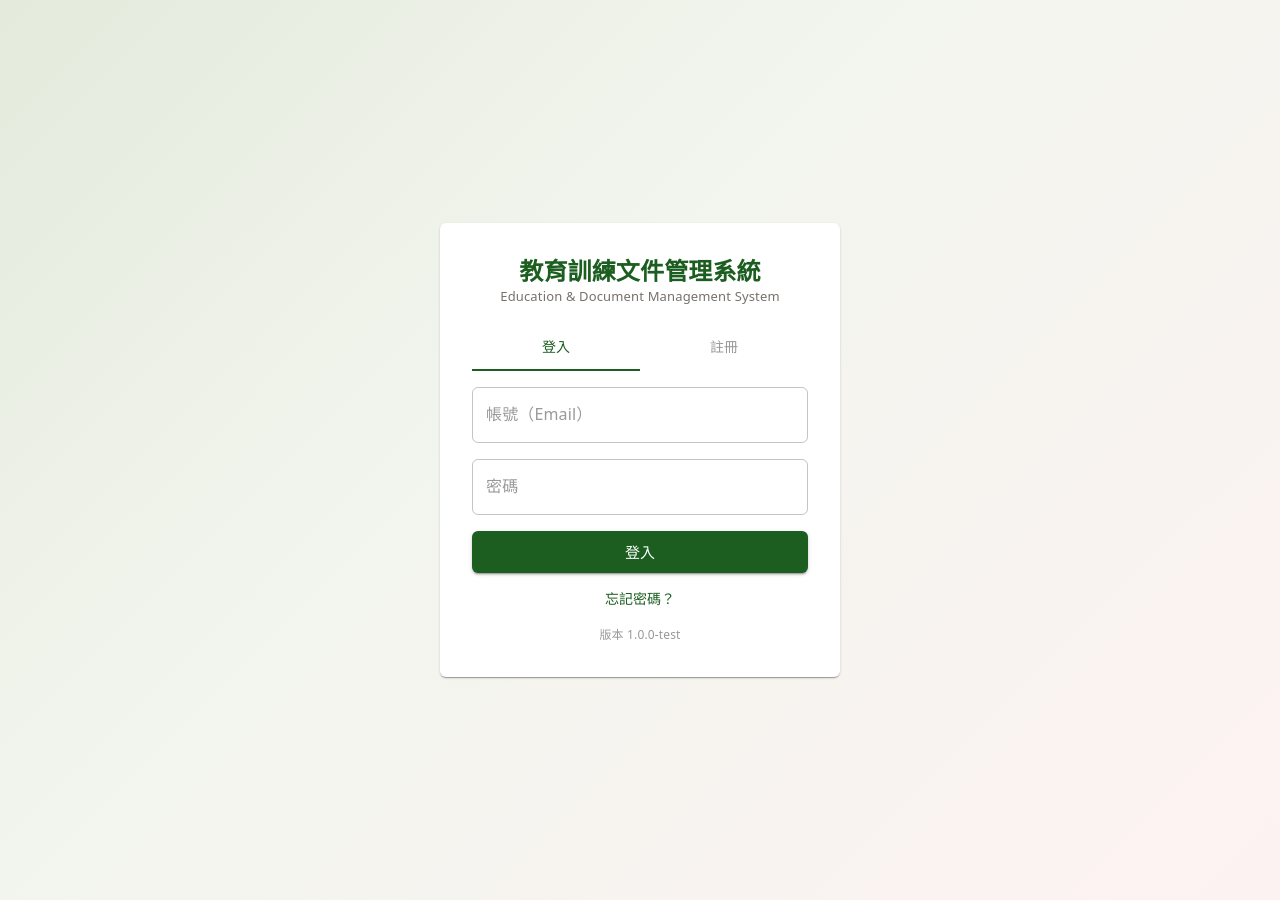
AppShell 統一導覽殼 › 登入後：全域頂列 + 常駐側欄（後台群組）+ 中性歡迎頁
In the field labelled "帳號（Email）": (640, 415) [472,387,808,443], type "u@edms.local"
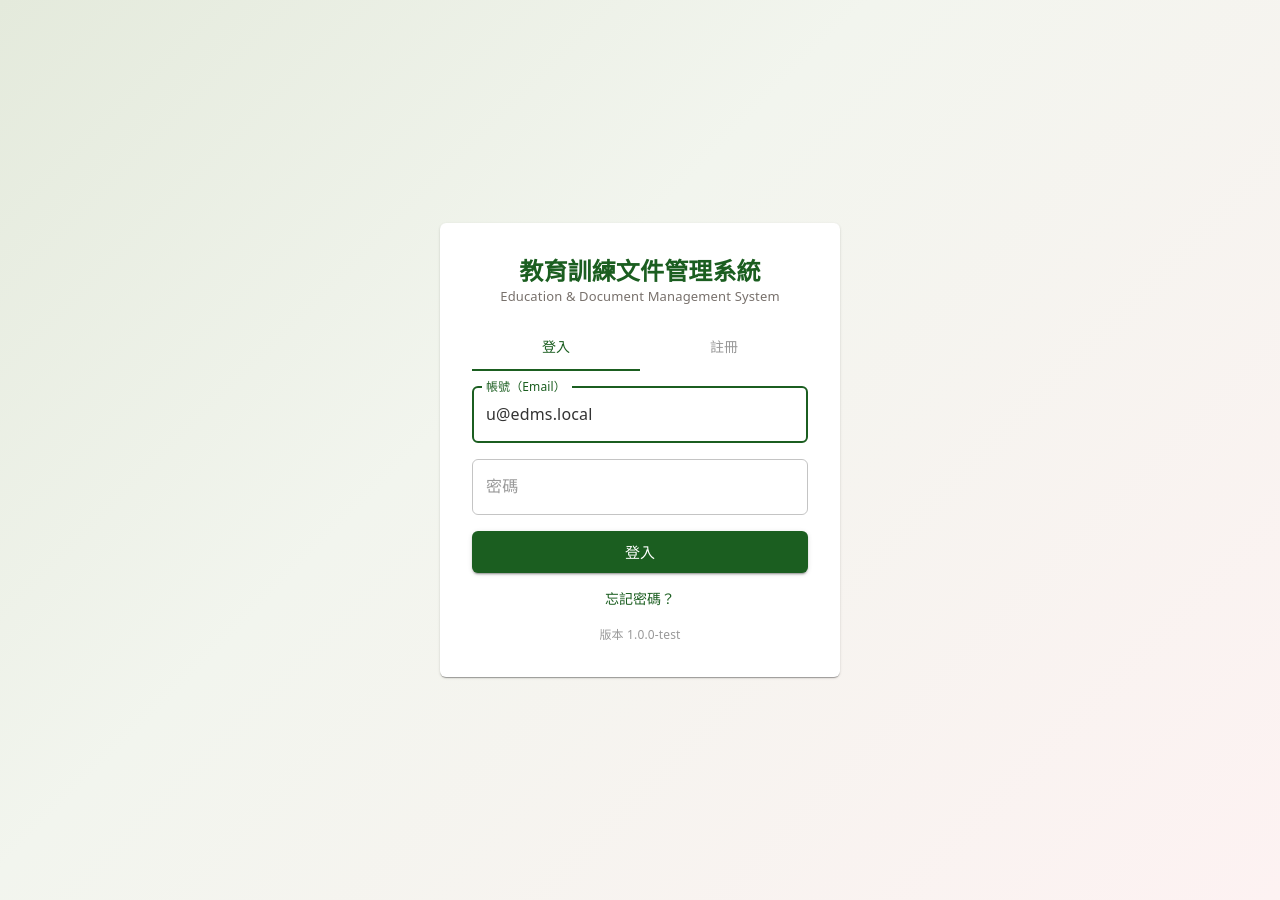
In the password field labelled "密碼": (640, 487) [472,459,808,515], type "Abcd1234"
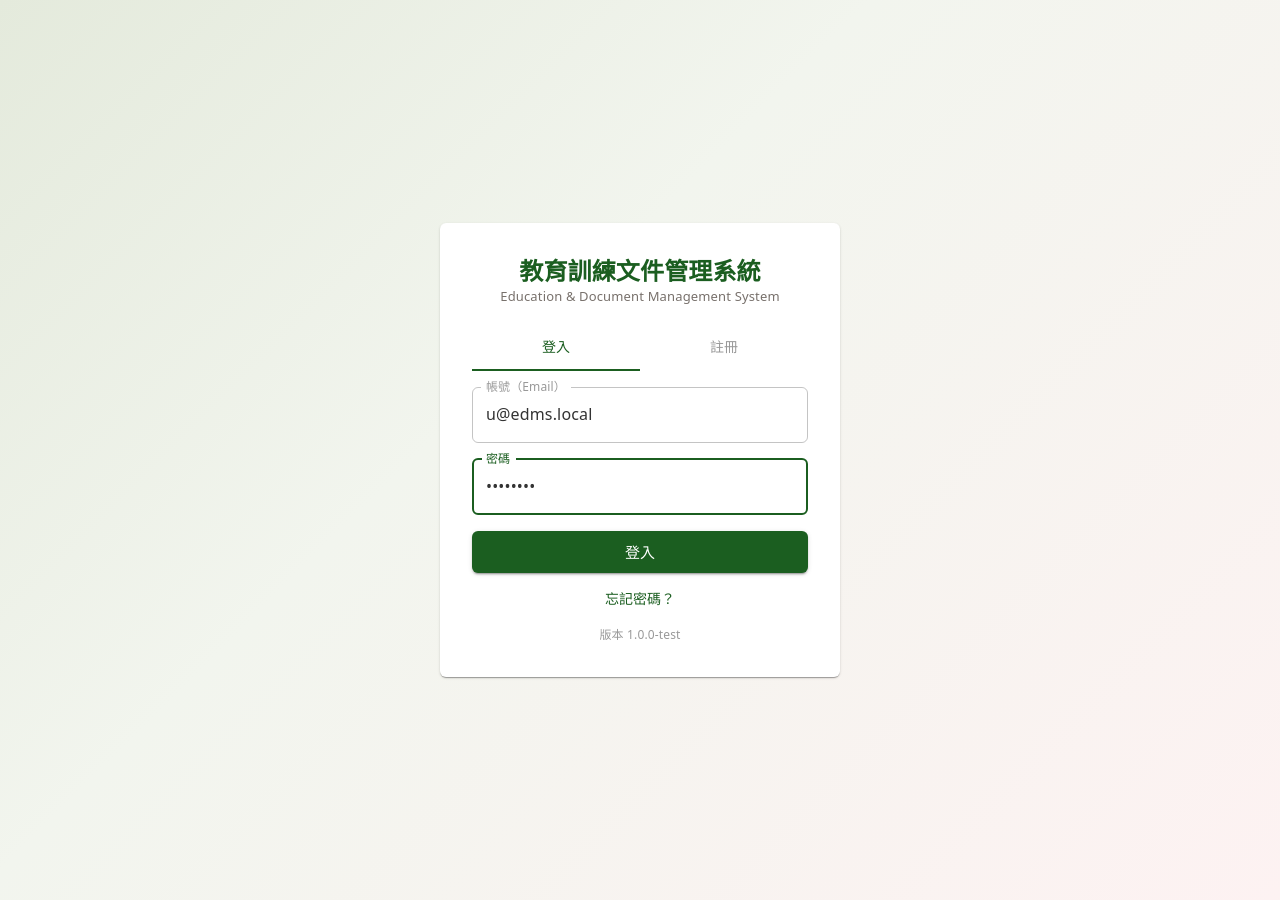
Click the button "登入": (640, 552) [472,531,808,573]
(page scrolled)
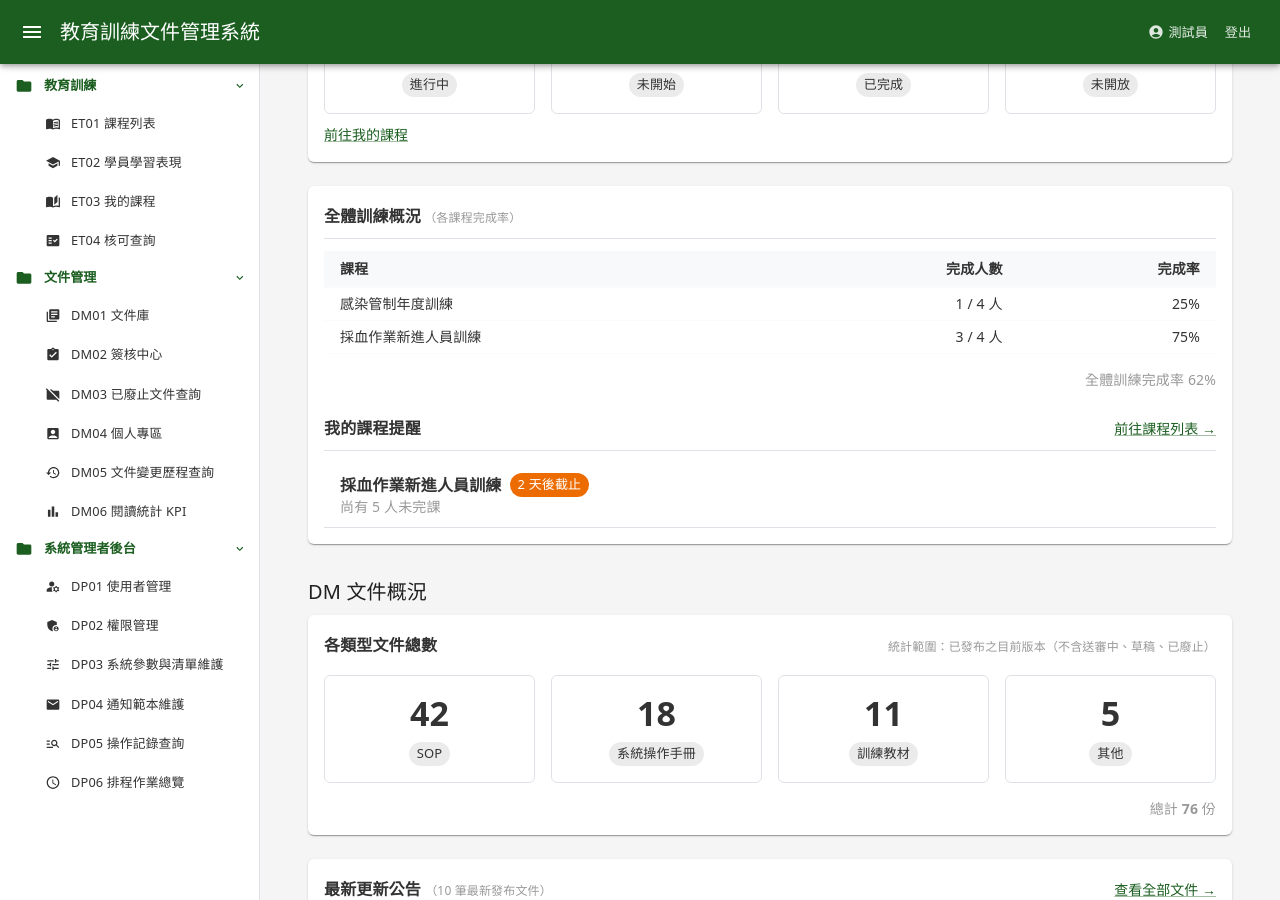
Check: the text "教育訓練文件管理系統" is shown, box [60,16,260,48]
Check: the text "系統管理者後台" is shown, box [44,539,136,557]
